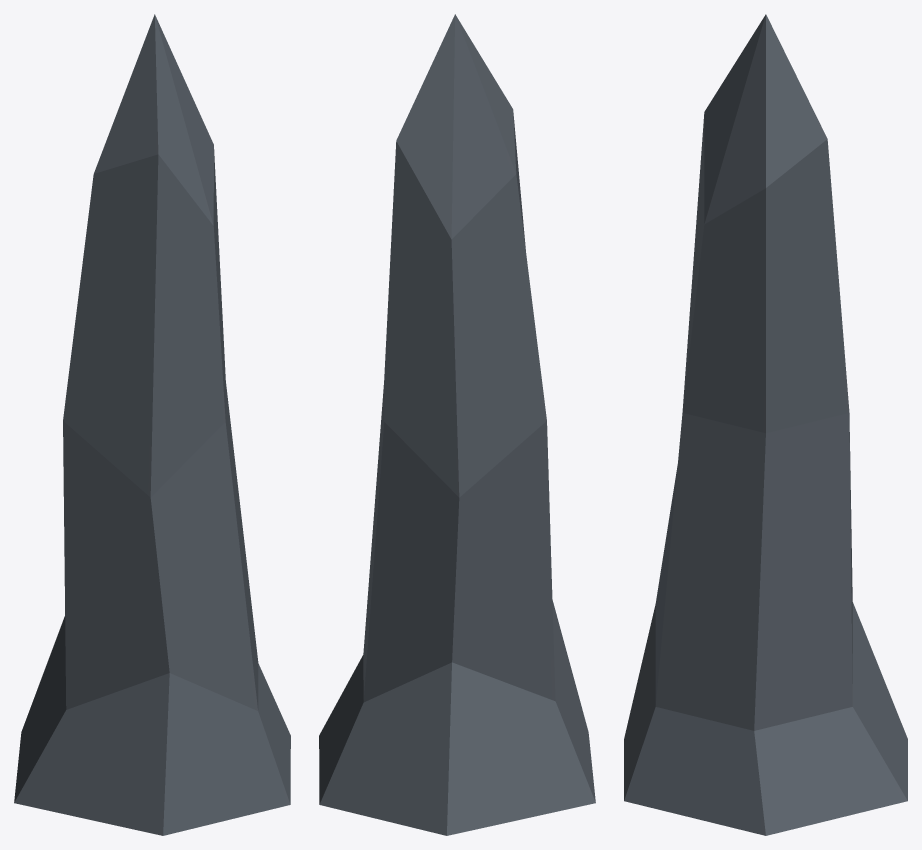
Rendered from Stalagmite-A07.fbx.
The picture shows the model from 3 angles, left to right: view 1: azimuth 30°, elevation 25°; view 2: azimuth 150°, elevation 25°; view 3: azimuth 270°, elevation 25°; orthographic projection.
Visible parts, largest first — view 1: Stalagmite-A07; view 2: Stalagmite-A07; view 3: Stalagmite-A07.
Part boxes in pixels (x1,y1,x2,y2): Stalagmite-A07: [14, 14, 290, 835]; Stalagmite-A07: [319, 14, 595, 835]; Stalagmite-A07: [624, 14, 907, 835].
Bounding box in the file's own units: 73.99 × 193 × 65.64.
